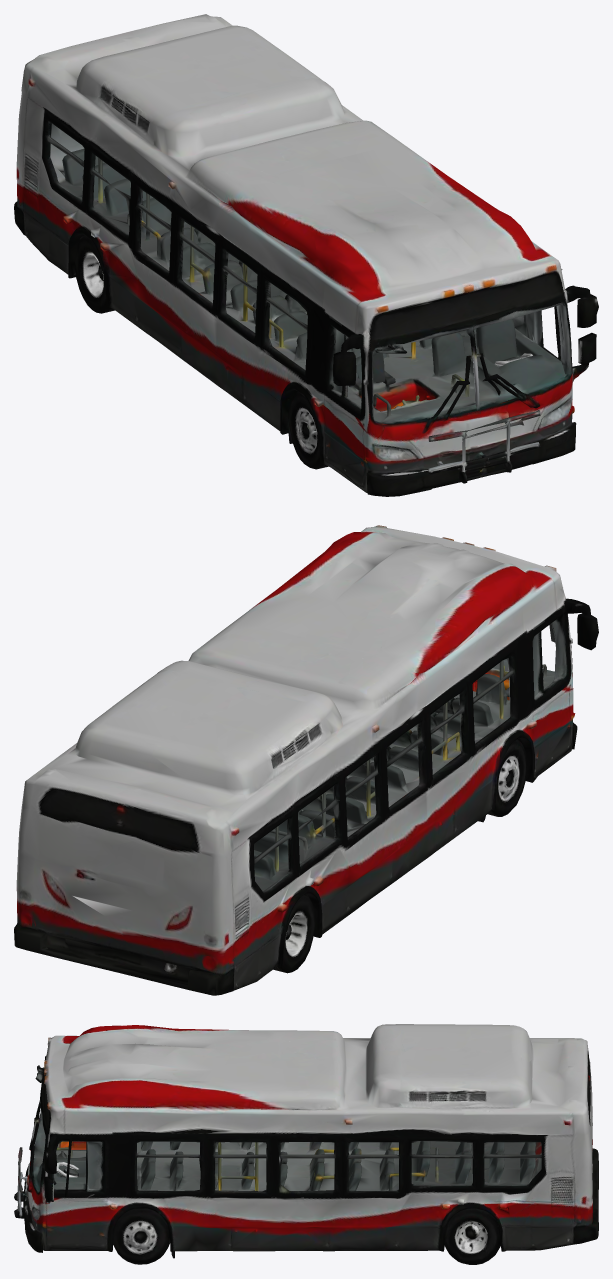
The model's file is bus.glb.
3 views of the same model, one above another, from view 1: azimuth 30°, elevation 25°; view 2: azimuth 150°, elevation 25°; view 3: azimuth 270°, elevation 25° (orthographic). The views are drawn at different scales.
Visible parts, largest first — view 1: tripo_node_962b40ce-e85c-430f-99ef-e85405fd2d3d; view 2: tripo_node_962b40ce-e85c-430f-99ef-e85405fd2d3d; view 3: tripo_node_962b40ce-e85c-430f-99ef-e85405fd2d3d.
Boxes of the visible parts, x1,y1,x2,y2 form: tripo_node_962b40ce-e85c-430f-99ef-e85405fd2d3d: [14, 14, 598, 496]; tripo_node_962b40ce-e85c-430f-99ef-e85405fd2d3d: [14, 525, 598, 995]; tripo_node_962b40ce-e85c-430f-99ef-e85405fd2d3d: [14, 1024, 598, 1264].
Size of the model in its own units: 0.4077 by 0.3324 by 1.
1 material, 1 textured.
